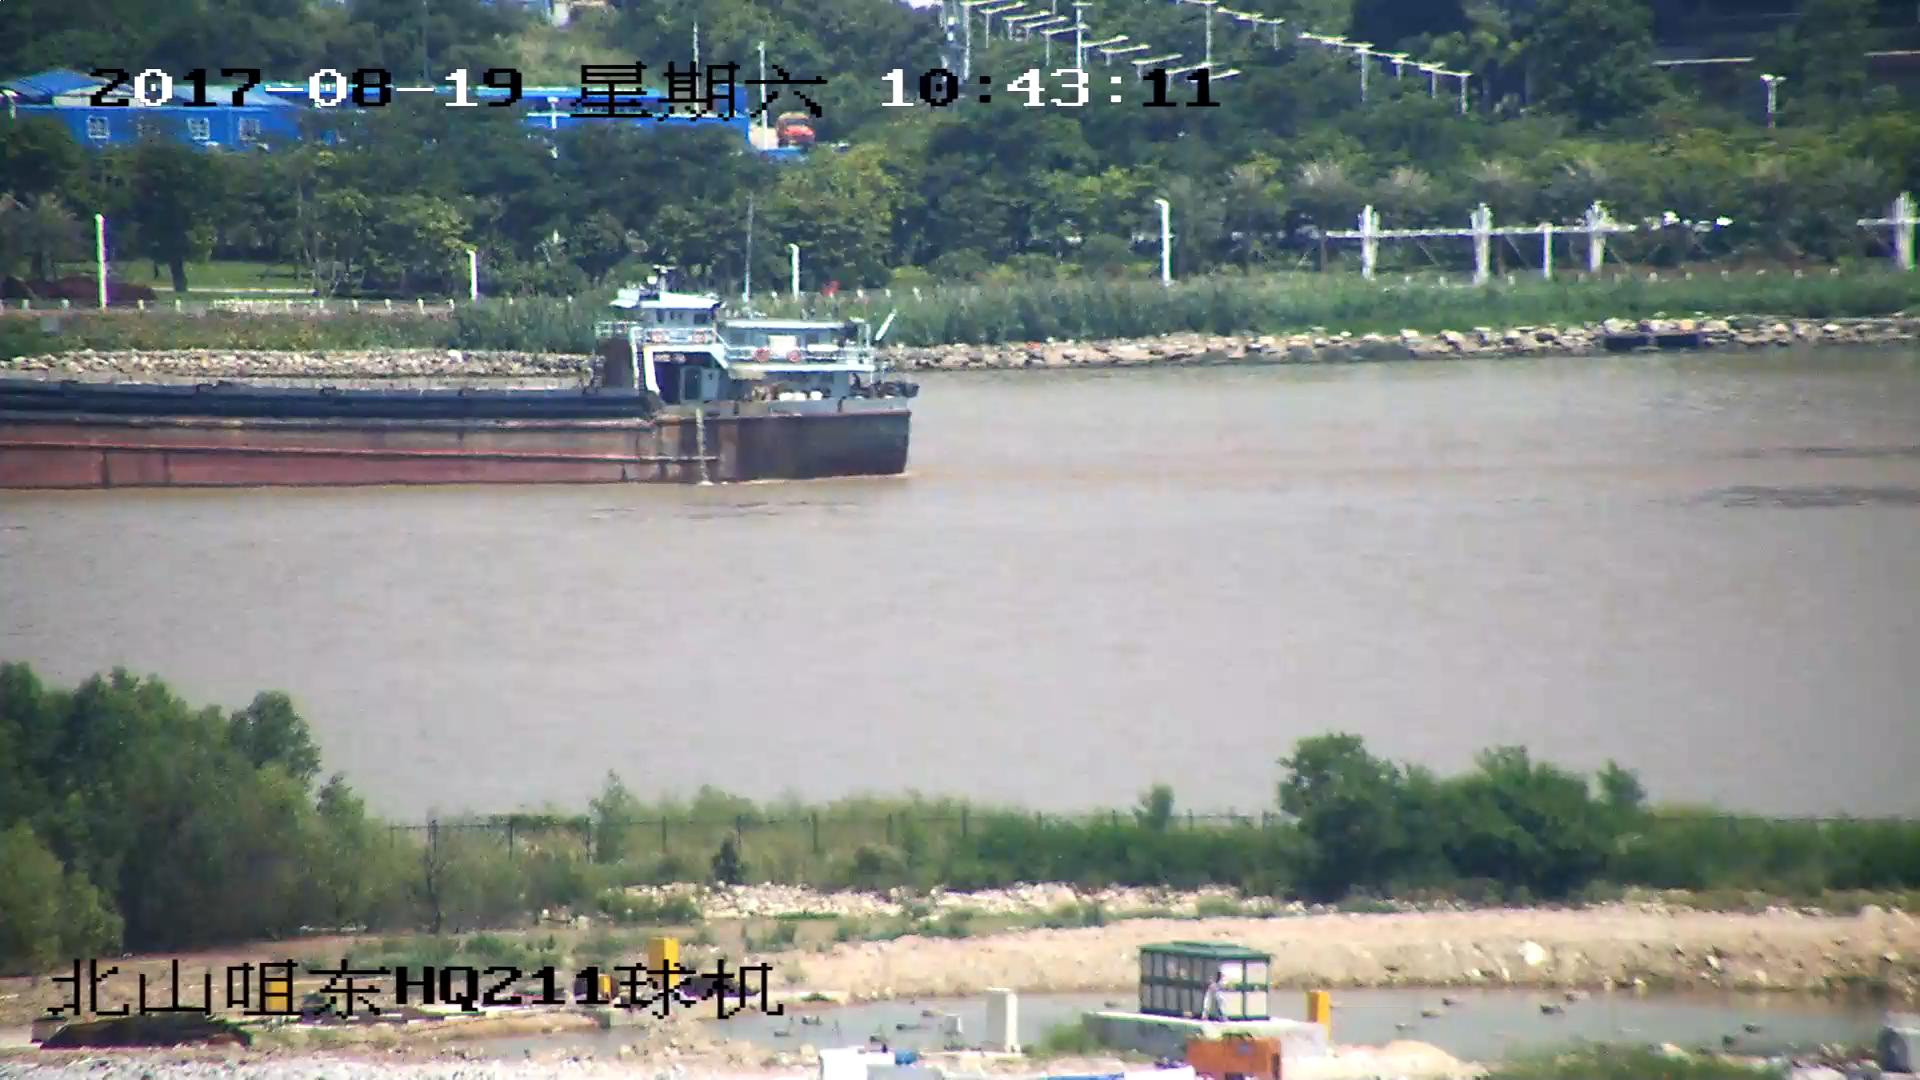bulk cargo carrier: (1, 261, 909, 483)
